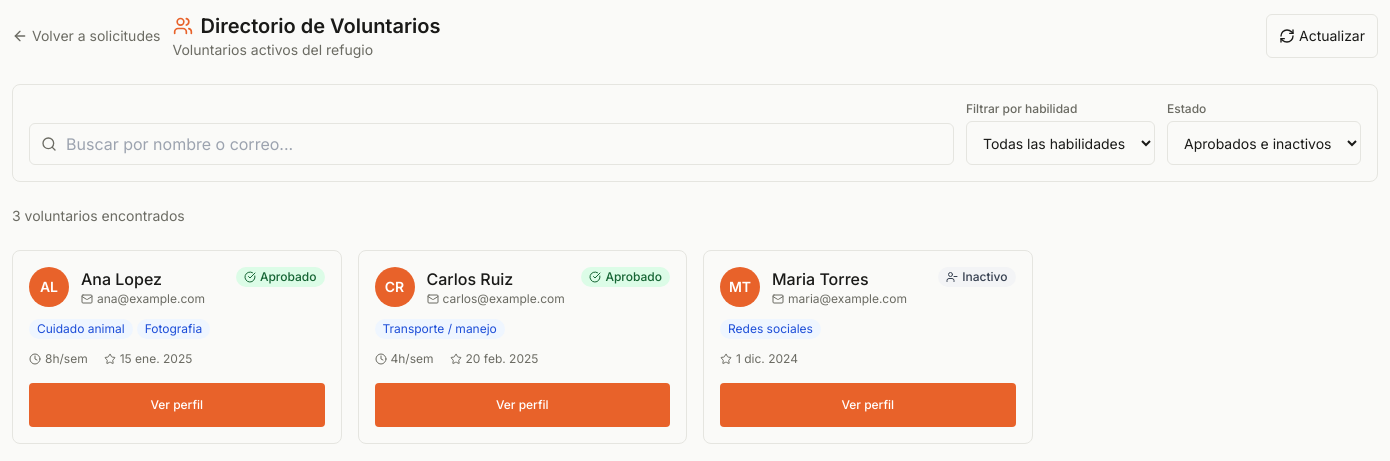
Test: VolunteerDirectoryPage › filters by inactive status only
Expected: the text "Maria Torres" is shown, [772, 269, 868, 289]
Step 1. Select "Solo inactivos" in the dropdown named "Estado" → (1264,143), box [1167, 121, 1361, 165]
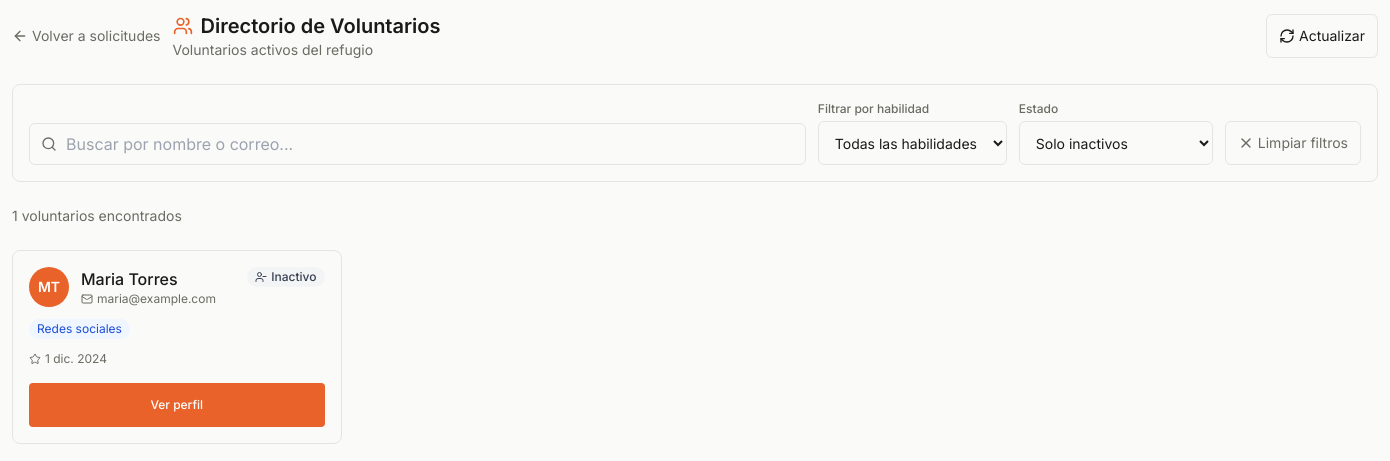
Expected: the text "Maria Torres" is shown, [81, 269, 178, 289]
Expected: the text "Ana Lopez" is gone
